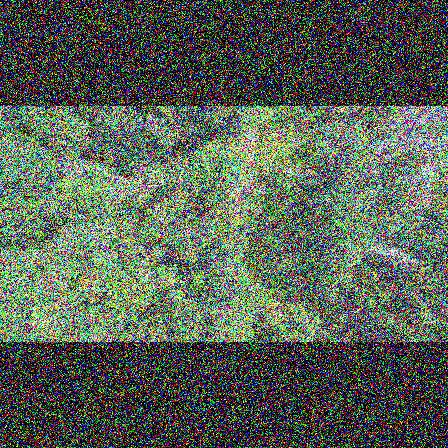Dead: (372, 134, 425, 160), (393, 106, 441, 130), (65, 152, 95, 181), (406, 140, 448, 158), (139, 244, 172, 266), (410, 157, 446, 174), (409, 175, 446, 190), (382, 254, 421, 267), (366, 243, 399, 257), (422, 312, 437, 329)
